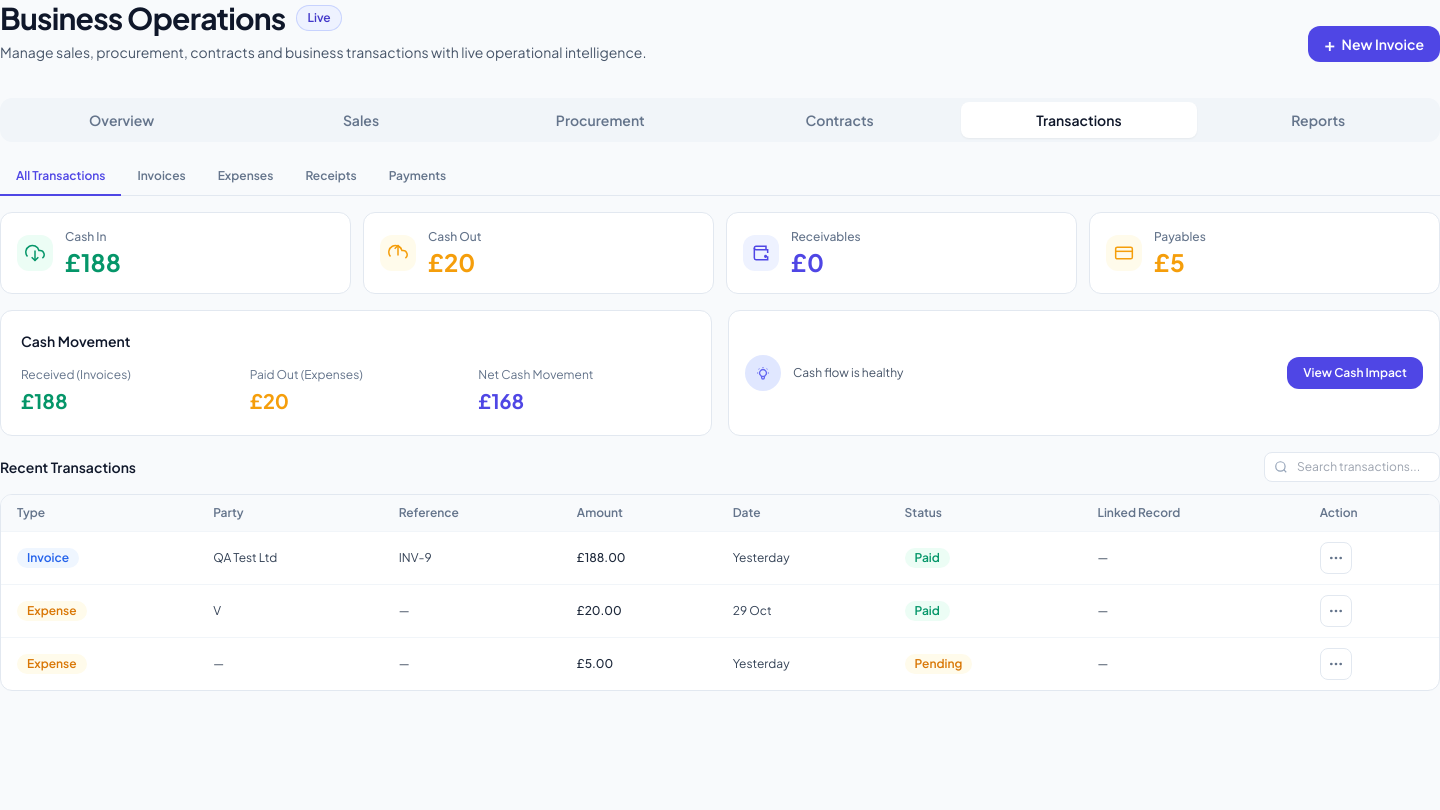
Business Operations stays current with the Agent › never reloads underneath an open dialog
The image size is (1440, 810).
Click the button "+ New Invoice" at (1374, 44), box [1308, 26, 1439, 62]
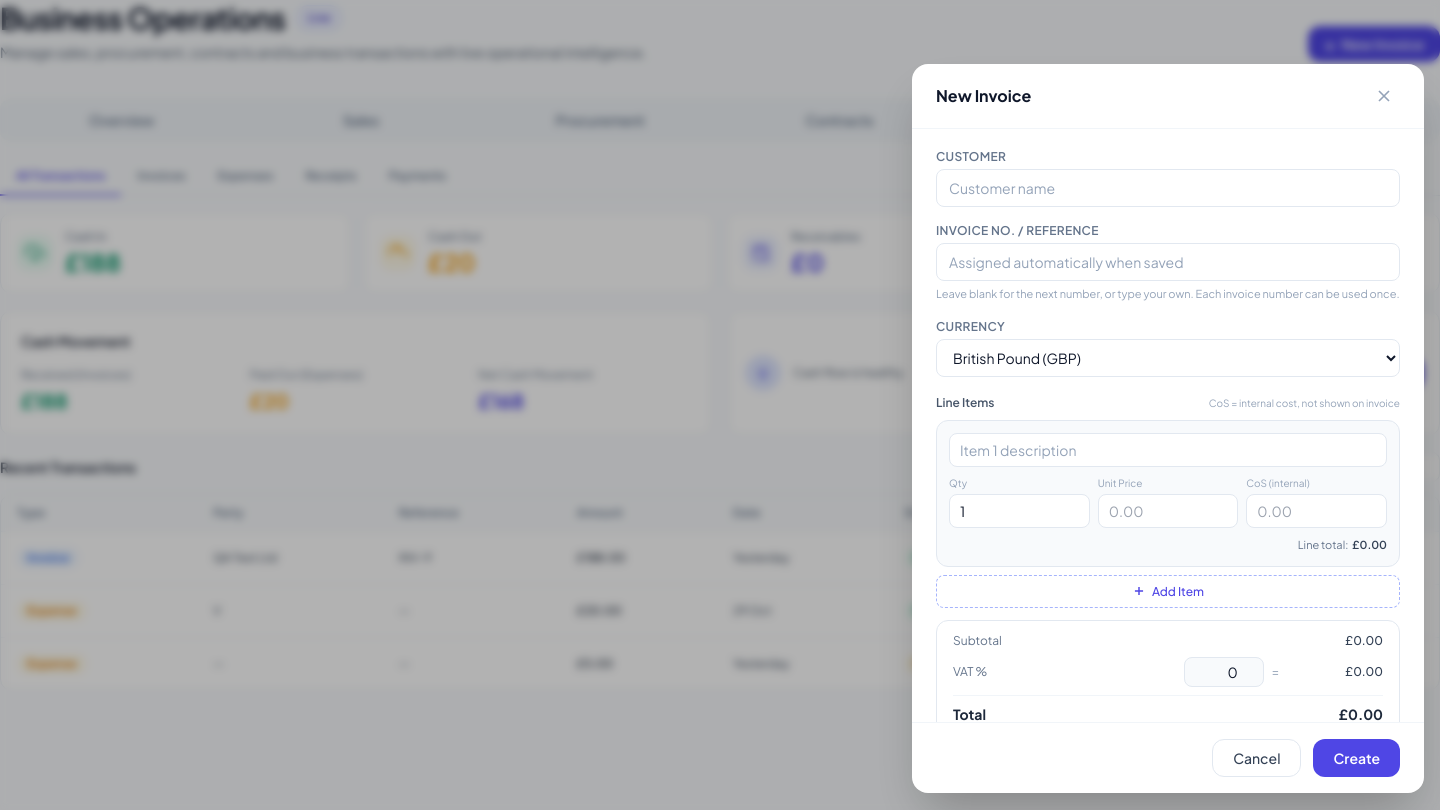
Now the button "Cancel" is shown, box [1212, 739, 1302, 777]
